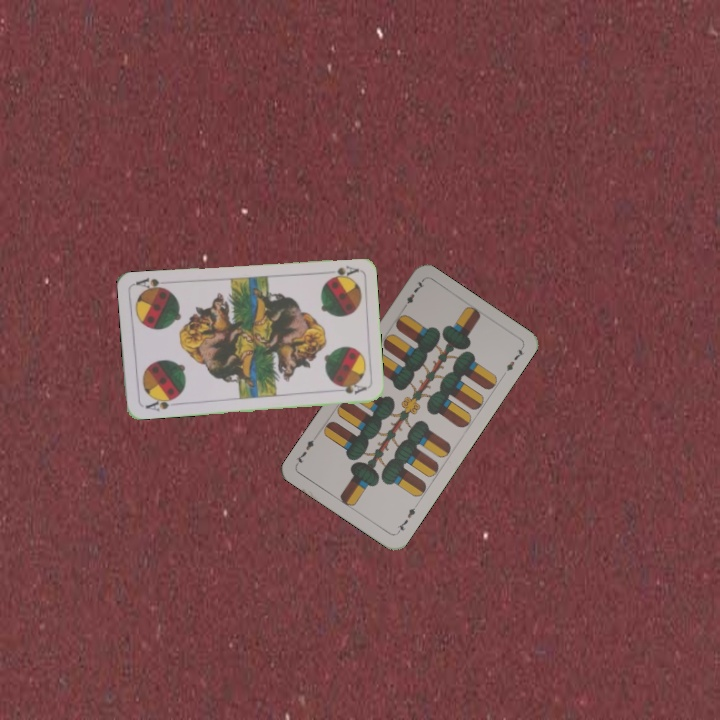E7: (393, 500, 420, 536), (400, 277, 426, 313)
SA: (141, 393, 180, 414), (325, 261, 360, 281)
